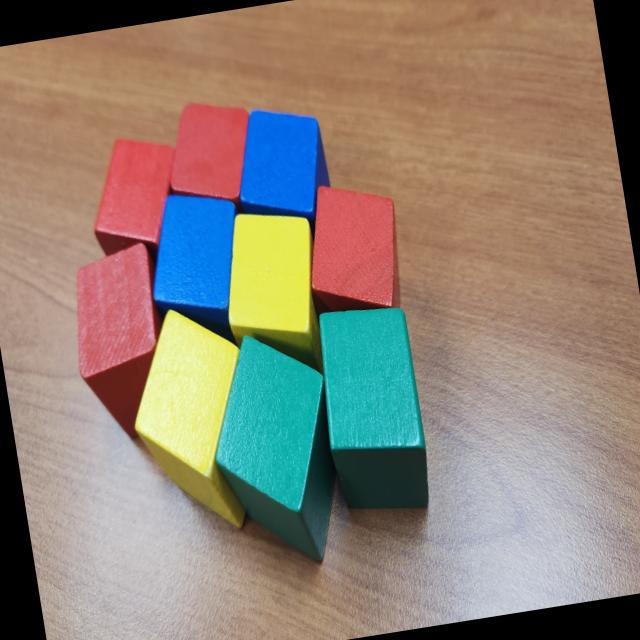blue: (136, 183, 259, 362), (224, 100, 337, 245)
green: (194, 320, 353, 578), (308, 299, 436, 524)
red: (61, 242, 186, 446), (296, 175, 410, 326), (78, 128, 192, 262), (158, 93, 264, 212)
yellow: (116, 299, 270, 542), (212, 202, 335, 384)
